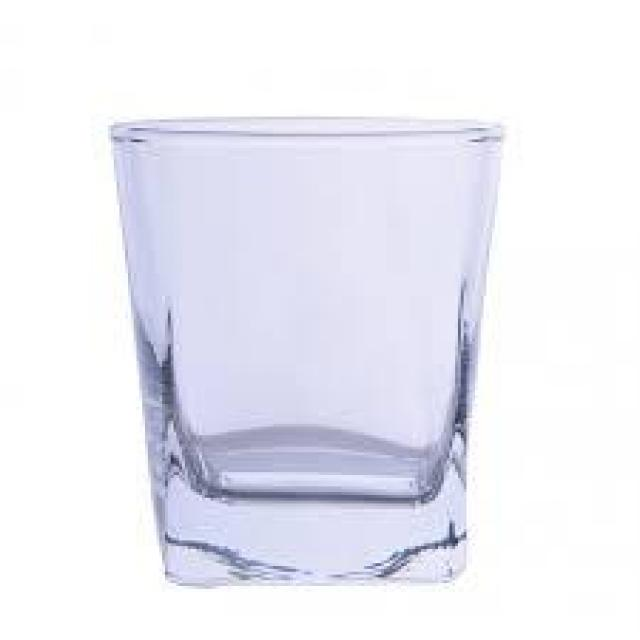non-organic waste: (108, 114, 504, 589)
